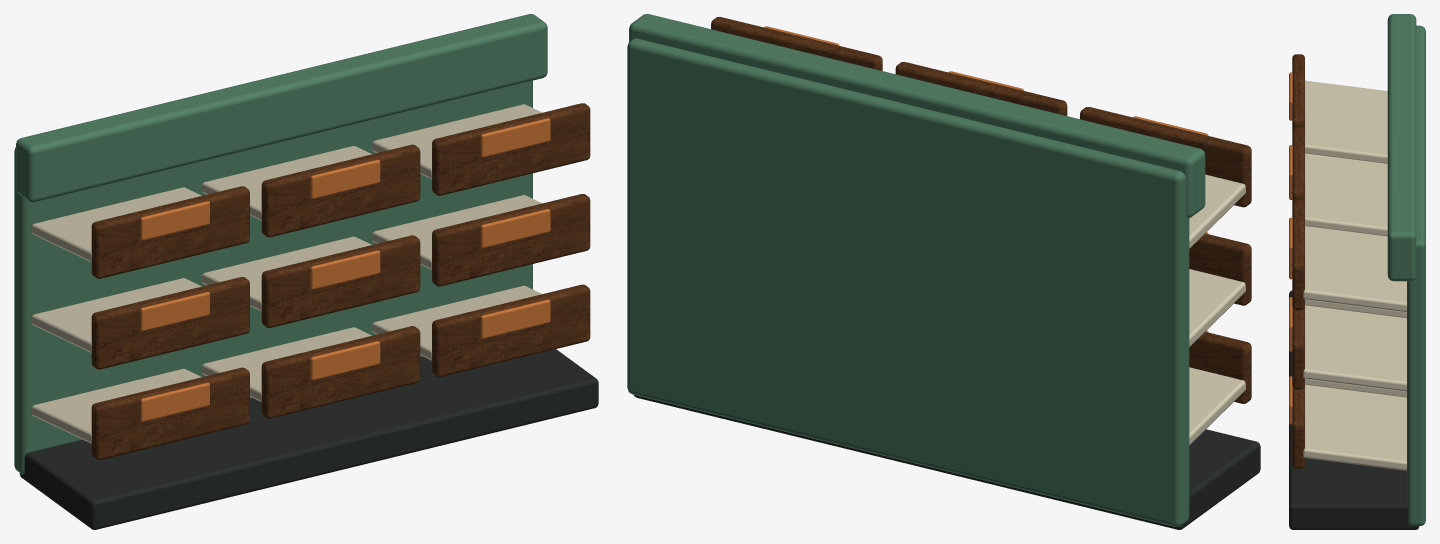
The model's file is grocery_wall_produce_bins.glb.
The picture shows the model from 3 angles, left to right: view 1: azimuth 30°, elevation 25°; view 2: azimuth 150°, elevation 25°; view 3: azimuth 270°, elevation 25°; orthographic projection. The views are drawn at different scales.
Visible parts, largest first — view 1: grocery_wall_produce_bins_ag_weathered_green_enamel_pbr, grocery_wall_produce_bins_ss_period_wood_laminate_pbr, grocery_wall_produce_bins_ag_dark_rubber_conveyor_pbr, grocery_wall_produce_bins_ag_aged_cream_enamel_pbr, grocery_wall_produce_bins_ag_price_rail_orange_pbr; view 2: grocery_wall_produce_bins_ag_weathered_green_enamel_pbr, grocery_wall_produce_bins_ss_period_wood_laminate_pbr, grocery_wall_produce_bins_ag_aged_cream_enamel_pbr, grocery_wall_produce_bins_ag_dark_rubber_conveyor_pbr; view 3: grocery_wall_produce_bins_ag_aged_cream_enamel_pbr, grocery_wall_produce_bins_ag_weathered_green_enamel_pbr, grocery_wall_produce_bins_ag_dark_rubber_conveyor_pbr, grocery_wall_produce_bins_ss_period_wood_laminate_pbr, grocery_wall_produce_bins_ag_price_rail_orange_pbr.
Part boxes in pixels (x1,y1,x2,y2): grocery_wall_produce_bins_ag_weathered_green_enamel_pbr: (14, 14, 547, 474); grocery_wall_produce_bins_ss_period_wood_laminate_pbr: (91, 103, 590, 460); grocery_wall_produce_bins_ag_dark_rubber_conveyor_pbr: (19, 349, 598, 529); grocery_wall_produce_bins_ag_aged_cream_enamel_pbr: (31, 104, 542, 443); grocery_wall_produce_bins_ag_price_rail_orange_pbr: (140, 118, 550, 421); grocery_wall_produce_bins_ag_weathered_green_enamel_pbr: (627, 14, 1205, 526); grocery_wall_produce_bins_ss_period_wood_laminate_pbr: (711, 17, 1251, 403); grocery_wall_produce_bins_ag_aged_cream_enamel_pbr: (1189, 174, 1245, 445); grocery_wall_produce_bins_ag_dark_rubber_conveyor_pbr: (634, 395, 1260, 529); grocery_wall_produce_bins_ag_aged_cream_enamel_pbr: (1303, 80, 1406, 470); grocery_wall_produce_bins_ag_weathered_green_enamel_pbr: (1387, 14, 1425, 525); grocery_wall_produce_bins_ag_dark_rubber_conveyor_pbr: (1289, 290, 1419, 529); grocery_wall_produce_bins_ss_period_wood_laminate_pbr: (1292, 54, 1304, 468); grocery_wall_produce_bins_ag_price_rail_orange_pbr: (1289, 72, 1292, 424).
Bounding box in the file's own units: 3.3 × 2.08 × 0.8605.
Materials: 5 (1 with a texture image).
